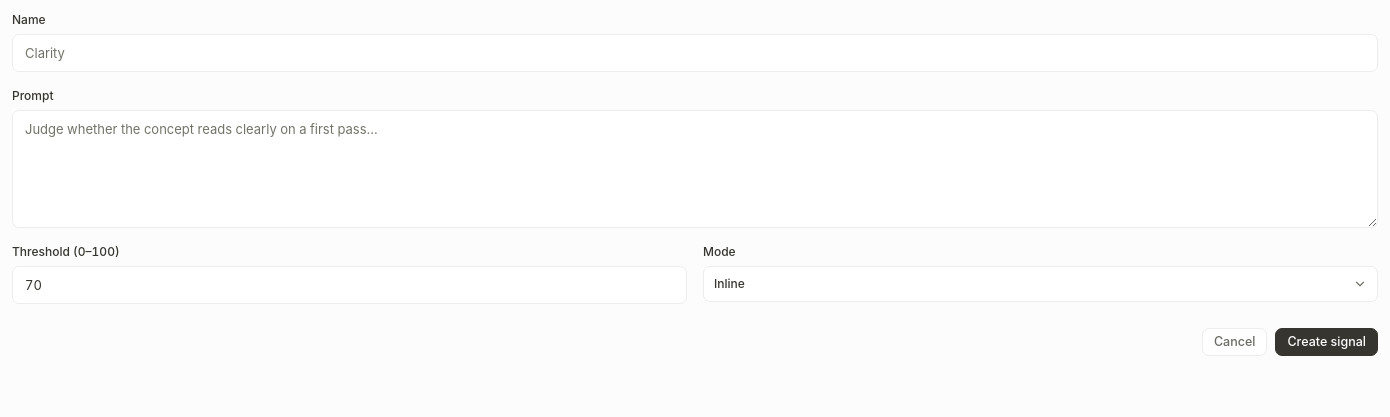
Test: SignalForm › does not submit and shows errors when the draft is invalid
Click the button "Create signal": (1327,342) [1275,328,1378,356]
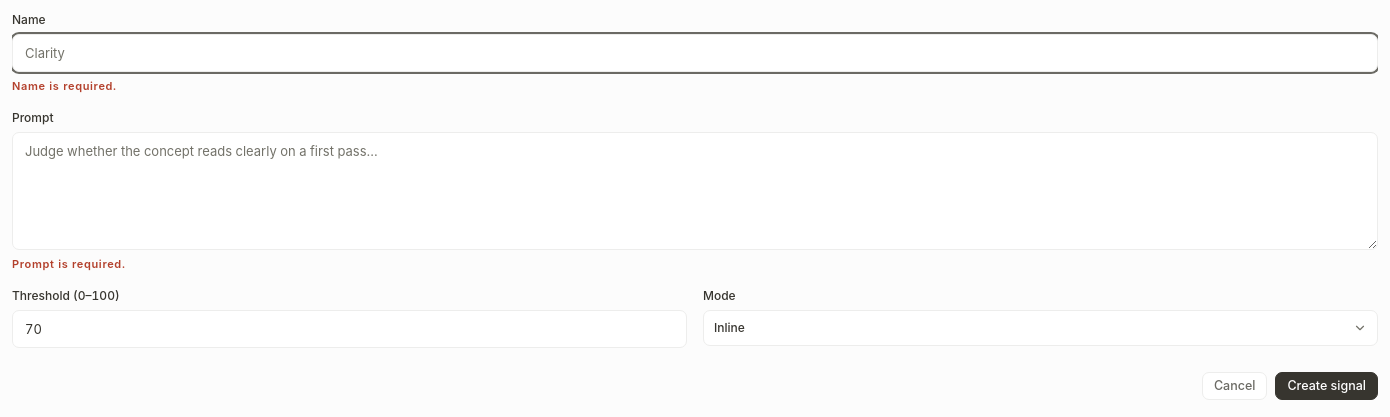
Check: the text "Name is required." is shown, box [11,78,117,93]
Check: the text "Prompt is required." is shown, box [11,256,126,271]
